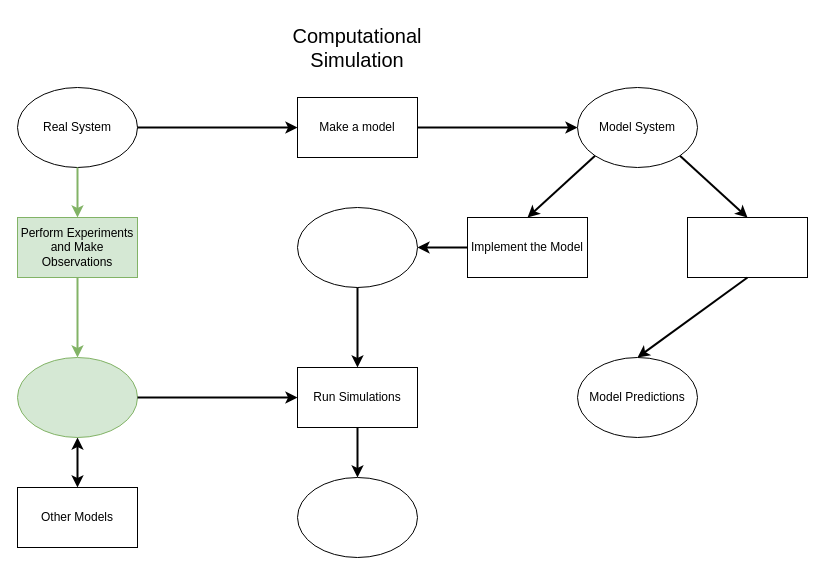
Image size: 825x575. Some labels were removed from this diagram. The shapes that lost their labels are listed below. From the top down, each one's box as (x1, y1, x2, y2) in pixels, then its label:
(296, 206, 418, 288): Executable Model
(686, 216, 808, 278): Construct Hypotheses
(16, 356, 138, 438): Data
(296, 476, 418, 558): Simulation Observations
